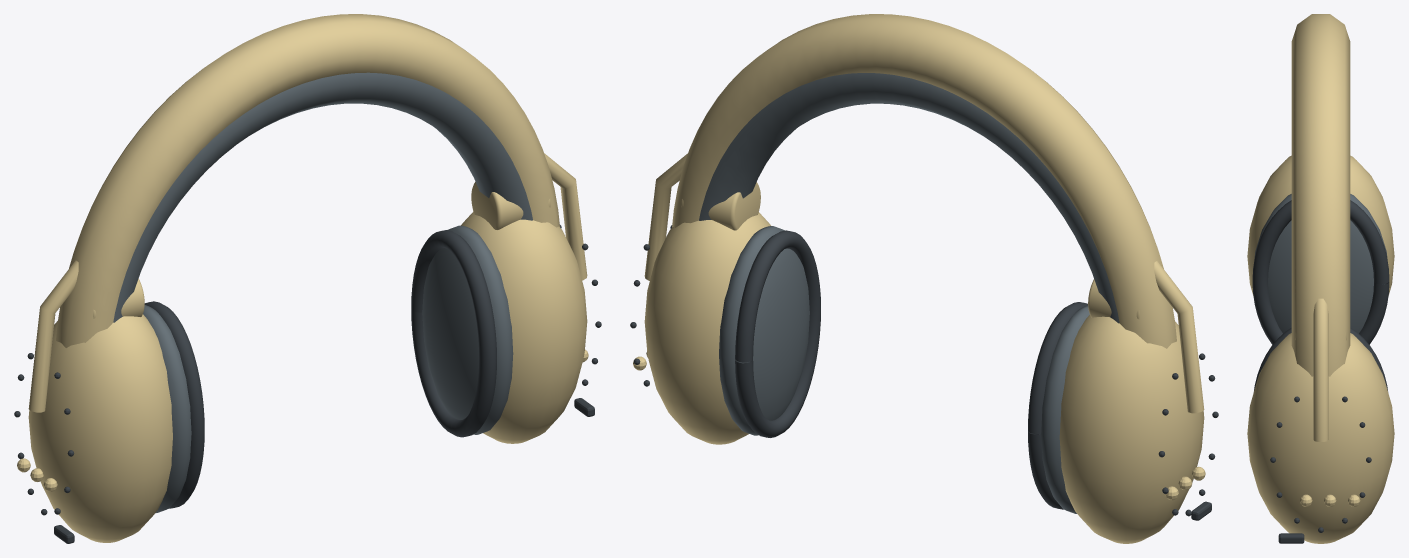
Rendered from product-headphones.glb.
The picture shows the model from 3 angles, left to right: view 1: azimuth 30°, elevation 25°; view 2: azimuth 150°, elevation 25°; view 3: azimuth 270°, elevation 25°; orthographic projection. The views are drawn at different scales.
Visible parts, largest first — view 1: product_headband, product_earcup, product_earcup.001, product_headband_pad, product_cushion.001, product_cushion_inner_ring.001, product_cushion, product_cushion_inner_ring, product_hinge_yoke, product_hinge_yoke.001, product_hinge.001; view 2: product_headband, product_earcup, product_earcup.001, product_headband_pad, product_cushion.001, product_cushion_inner_ring.001, product_cushion, product_cushion_inner_ring, product_hinge_yoke, product_hinge_yoke.001, product_hinge.001; view 3: product_earcup.001, product_headband, product_cushion_inner_ring, product_cushion, product_earcup, product_hinge_yoke.001, product_cushion_inner_ring.001, product_cup_usb_port.001.
Boxes of the visible parts, x1=… form: product_headband: x1=56, y1=14, x2=559, y2=347; product_earcup: x1=28, y1=314, x2=172, y2=542; product_earcup.001: x1=461, y1=212, x2=587, y2=443; product_headband_pad: x1=113, y1=72, x2=532, y2=322; product_cushion.001: x1=422, y1=225, x2=513, y2=434; product_cushion_inner_ring.001: x1=411, y1=230, x2=496, y2=437; product_cushion: x1=143, y1=305, x2=191, y2=513; product_cushion_inner_ring: x1=144, y1=301, x2=204, y2=508; product_hinge_yoke: x1=28, y1=260, x2=78, y2=412; product_hinge_yoke.001: x1=544, y1=153, x2=587, y2=280; product_hinge.001: x1=471, y1=182, x2=550, y2=229; product_headband: x1=672, y1=14, x2=1176, y2=348; product_earcup: x1=1059, y1=315, x2=1204, y2=543; product_earcup.001: x1=644, y1=212, x2=770, y2=444; product_headband_pad: x1=699, y1=73, x2=1119, y2=323; product_cushion.001: x1=719, y1=226, x2=809, y2=435; product_cushion_inner_ring.001: x1=735, y1=230, x2=820, y2=437; product_cushion: x1=1039, y1=305, x2=1089, y2=513; product_cushion_inner_ring: x1=1028, y1=302, x2=1087, y2=509; product_hinge_yoke: x1=1154, y1=261, x2=1204, y2=413; product_hinge_yoke.001: x1=644, y1=153, x2=687, y2=280; product_hinge.001: x1=681, y1=182, x2=760, y2=230; product_earcup.001: x1=1247, y1=333, x2=1394, y2=543; product_headband: x1=1291, y1=14, x2=1350, y2=376; product_cushion_inner_ring: x1=1252, y1=200, x2=1389, y2=344; product_cushion: x1=1254, y1=194, x2=1387, y2=333; product_earcup: x1=1247, y1=155, x2=1394, y2=296; product_hinge_yoke.001: x1=1313, y1=298, x2=1328, y2=441; product_cushion_inner_ring.001: x1=1254, y1=328, x2=1387, y2=390; product_cup_usb_port.001: x1=1278, y1=533, x2=1304, y2=543.
Bounding box in the file's own units: 1.56 × 1.25 × 0.4.
